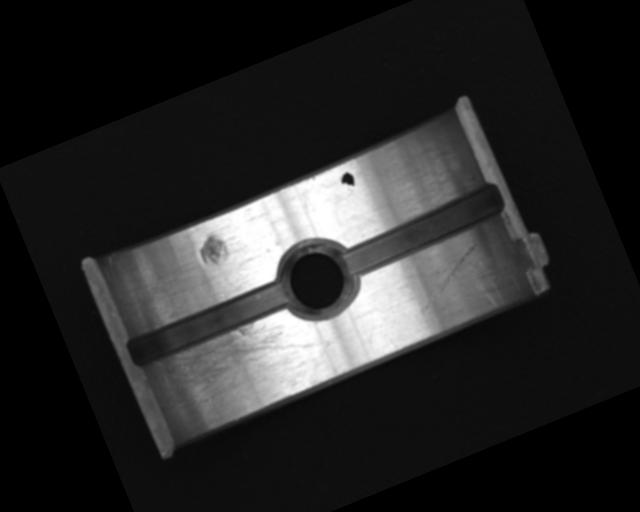blot: (337, 169, 358, 194)
bruise: (195, 230, 234, 269)
gap: (336, 178, 512, 280), (121, 274, 296, 373)
hole: (265, 226, 367, 331)
nick: (402, 240, 495, 316)
scratch: (148, 303, 323, 426)
